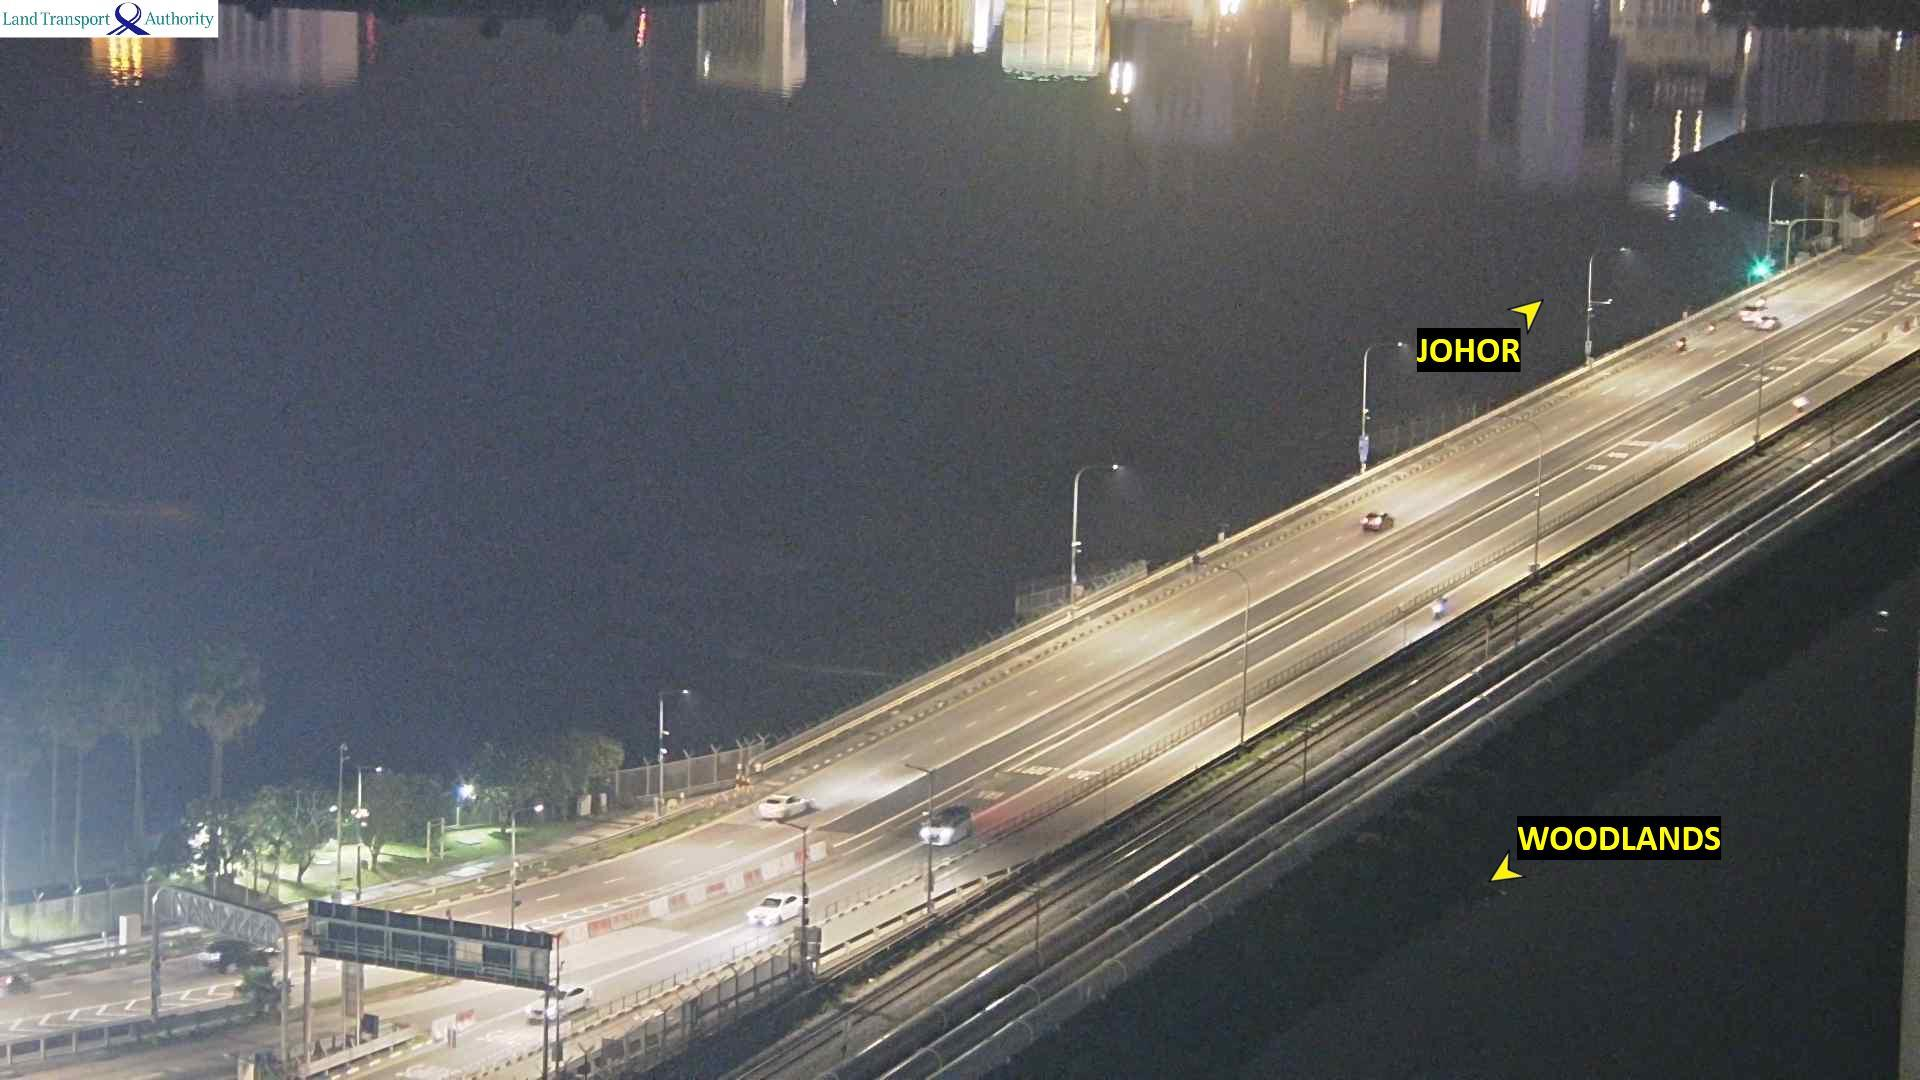vehicle-causeway-johor: (764, 792, 821, 822), (200, 941, 256, 971), (1361, 511, 1392, 536), (1741, 300, 1767, 319), (1753, 315, 1778, 332), (1673, 335, 1689, 351), (1708, 321, 1718, 330)
vehicle-causeway-singapore: (531, 983, 590, 1021), (748, 892, 805, 926), (923, 809, 974, 846)
